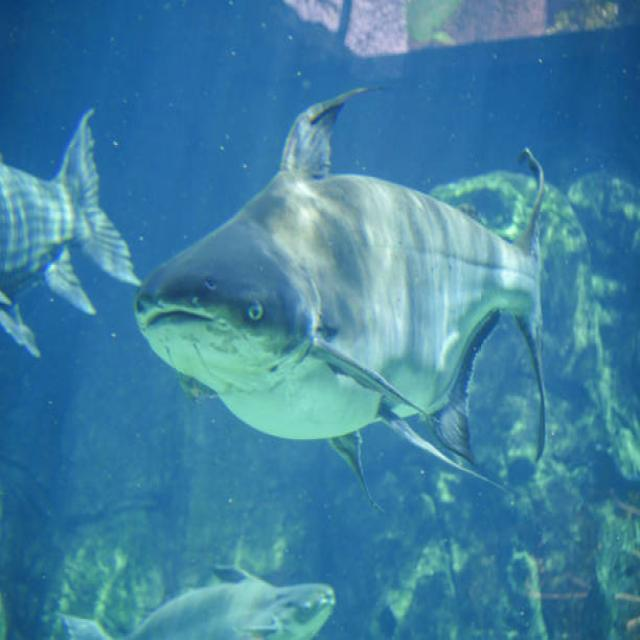Mekong_Giant_Catfish: (132, 81, 550, 507)
